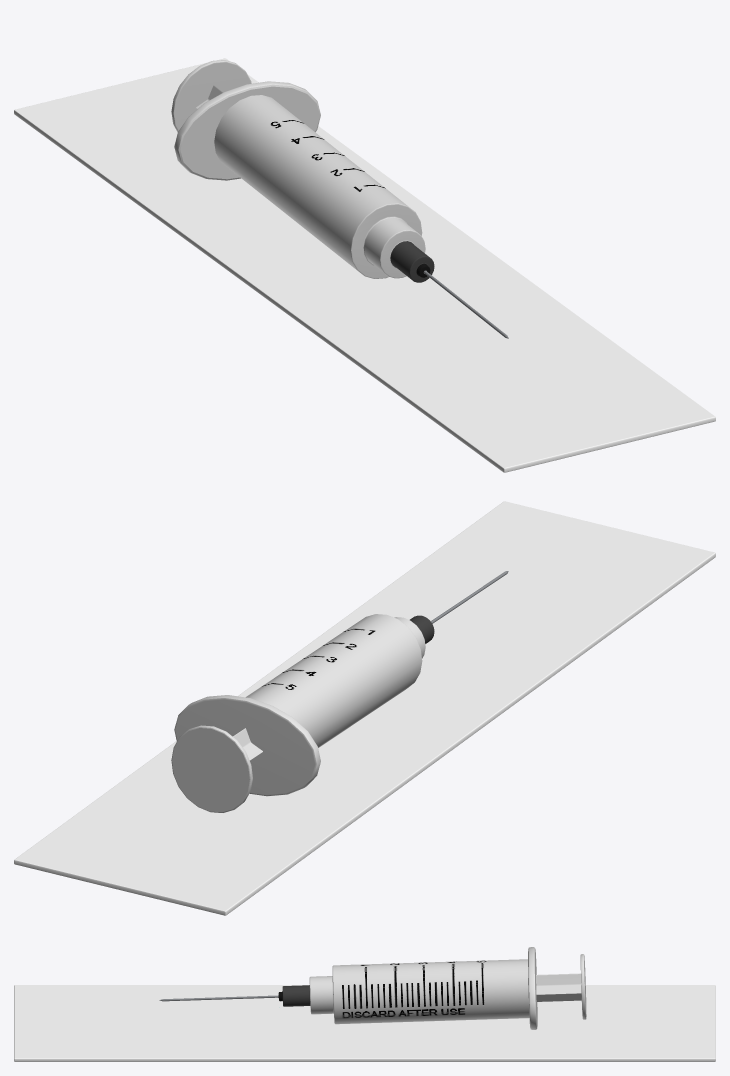
Rendered from Syringe.fbx.
The picture shows the model from 3 angles, top to bottom: view 1: azimuth 30°, elevation 25°; view 2: azimuth 150°, elevation 25°; view 3: azimuth 270°, elevation 25°; orthographic projection. The views are drawn at different scales.
Visible parts, largest first — view 1: syringe_package, syringe_and_needle, pusher_end; view 2: syringe_package, pusher_end, syringe_and_needle; view 3: syringe_package, syringe_and_needle, pusher_end.
Part boxes in pixels (x1,y1,x2,y2): syringe_package: [14, 58, 715, 472]; syringe_and_needle: [214, 95, 508, 338]; pusher_end: [171, 60, 320, 180]; syringe_package: [14, 501, 715, 915]; pusher_end: [171, 695, 320, 812]; syringe_and_needle: [246, 571, 508, 747]; syringe_package: [14, 985, 715, 1061]; syringe_and_needle: [159, 959, 529, 1024]; pusher_end: [528, 947, 586, 1029].
Size of the model in its own units: 0.0886 by 0.0406 by 0.3544.
1 material, 1 textured.
